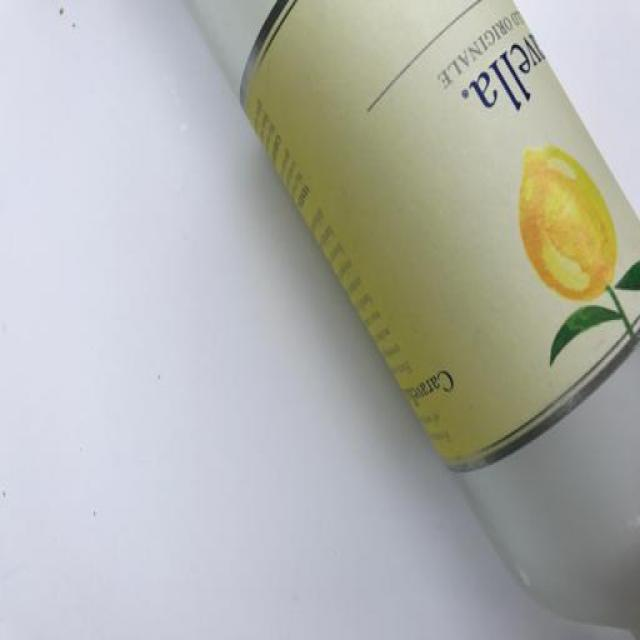Waste: (191, 0, 640, 636)
